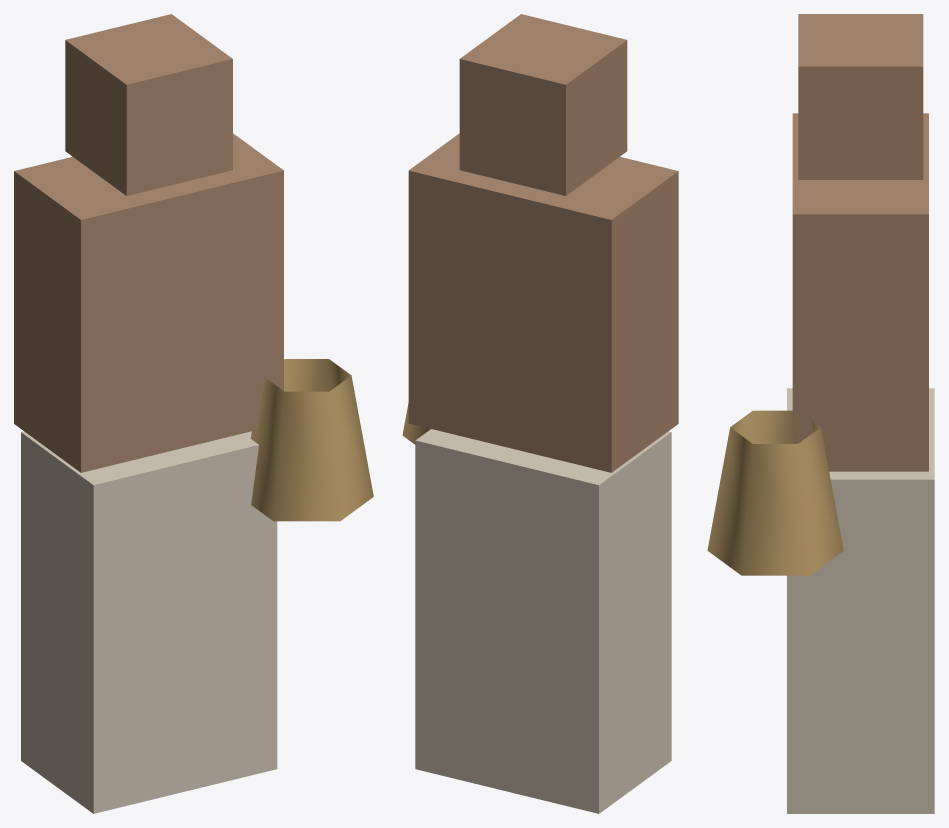
File: artisan.glb
The picture shows the model from 3 angles, left to right: view 1: azimuth 30°, elevation 25°; view 2: azimuth 150°, elevation 25°; view 3: azimuth 270°, elevation 25°; orthographic projection.
Visible parts, largest first — view 1: Dhoti_Node, Torso_Node, Head_Node, BronzePiece_Node; view 2: Dhoti_Node, Torso_Node, Head_Node; view 3: Dhoti_Node, Torso_Node, Head_Node, BronzePiece_Node.
Boxes of the visible parts, left/top/right/bottom form: Dhoti_Node: left=21, top=431, right=277, bottom=813; Torso_Node: left=14, top=133, right=283, bottom=472; Head_Node: left=65, top=14, right=232, bottom=195; BronzePiece_Node: left=250, top=359, right=373, bottom=521; Dhoti_Node: left=415, top=429, right=671, bottom=813; Torso_Node: left=408, top=133, right=678, bottom=472; Head_Node: left=459, top=14, right=627, bottom=195; Dhoti_Node: left=787, top=388, right=934, bottom=813; Torso_Node: left=792, top=113, right=928, bottom=471; Head_Node: left=798, top=14, right=923, bottom=179; BronzePiece_Node: left=707, top=410, right=843, bottom=575.
Size of the model in its own units: 0.5539 by 1.42 by 0.4.
